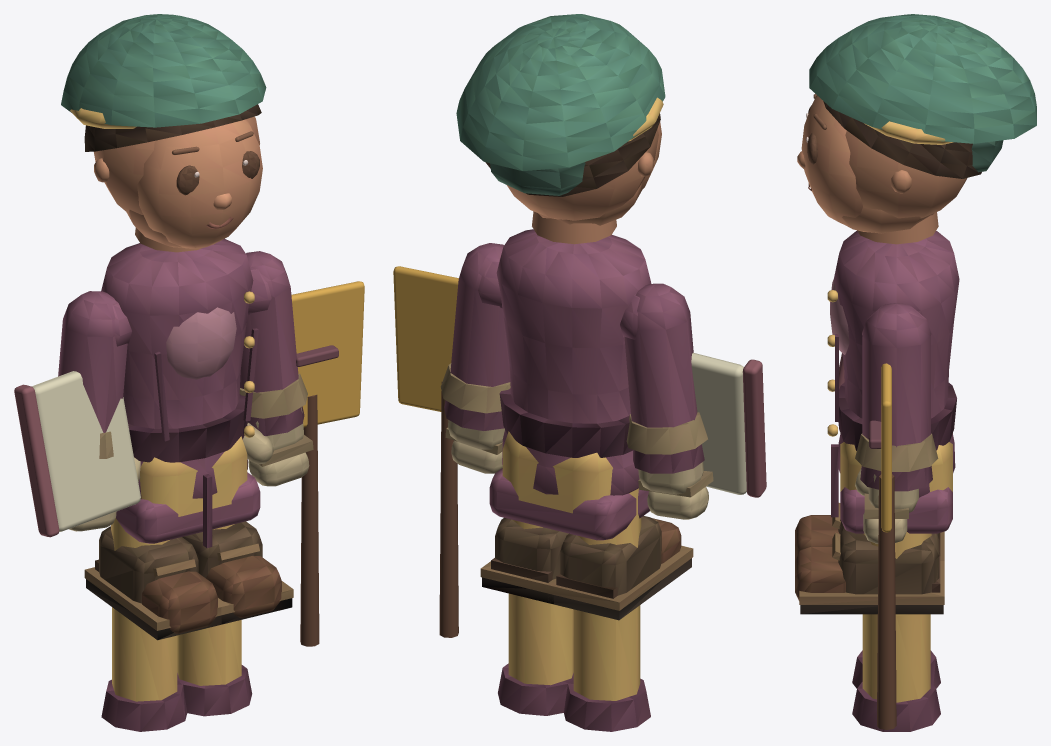
The model's file is lee-eunha.m1.glb.
The picture shows the model from 3 angles, left to right: view 1: azimuth 30°, elevation 25°; view 2: azimuth 150°, elevation 25°; view 3: azimuth 270°, elevation 25°; orthographic projection.
Parts seen in each view (by area): view 1: coat, legs, hat, figureDetail, festivalLedger, festivalBanner, armRightMesh, armLeftMesh, trousers, handRightMesh, festivalBannerPole, festivalLedgerBinding (+2 smaller); view 2: coat, legs, hat, armLeftMesh, armRightMesh, festivalBanner, figureDetail, festivalLedger, handLeftMesh, trousers, handRightMesh, festivalBannerPole (+2 smaller); view 3: hat, coat, legs, figureDetail, armRightMesh, festivalBannerPole, handRightMesh, trousers, festivalBanner, neck.
Part boxes in pixels (<box>): coat: <box>101,238,260,543</box>; legs: <box>84,518,293,731</box>; hat: <box>61,14,266,128</box>; figureDetail: <box>84,104,262,248</box>; festivalLedger: <box>32,371,140,531</box>; festivalBanner: <box>291,281,364,427</box>; armRightMesh: <box>240,251,304,436</box>; armLeftMesh: <box>58,291,131,432</box>; trousers: <box>140,436,247,547</box>; handRightMesh: <box>239,373,313,486</box>; festivalBannerPole: <box>300,394,319,646</box>; festivalLedgerBinding: <box>14,384,59,537</box>; coat: <box>489,229,651,540</box>; legs: <box>480,488,693,731</box>; hat: <box>456,14,665,195</box>; armLeftMesh: <box>620,283,704,473</box>; armRightMesh: <box>444,243,510,430</box>; festivalBanner: <box>393,266,458,411</box>; figureDetail: <box>485,113,661,225</box>; festivalLedger: <box>691,352,746,494</box>; handLeftMesh: <box>626,412,713,519</box>; trousers: <box>502,431,612,513</box>; handRightMesh: <box>440,363,510,473</box>; festivalBannerPole: <box>439,382,458,637</box>; hat: <box>809,14,1036,172</box>; coat: <box>827,231,959,533</box>; legs: <box>795,503,944,731</box>; figureDetail: <box>797,93,981,233</box>; armRightMesh: <box>860,303,932,491</box>; festivalBannerPole: <box>877,474,896,729</box>; handRightMesh: <box>855,433,938,543</box>; trousers: <box>831,433,952,517</box>; festivalBanner: <box>881,363,891,532</box>; neck: <box>857,212,938,244</box>.
Bounding box in the file's own units: 1.16 × 2.16 × 0.6856.
